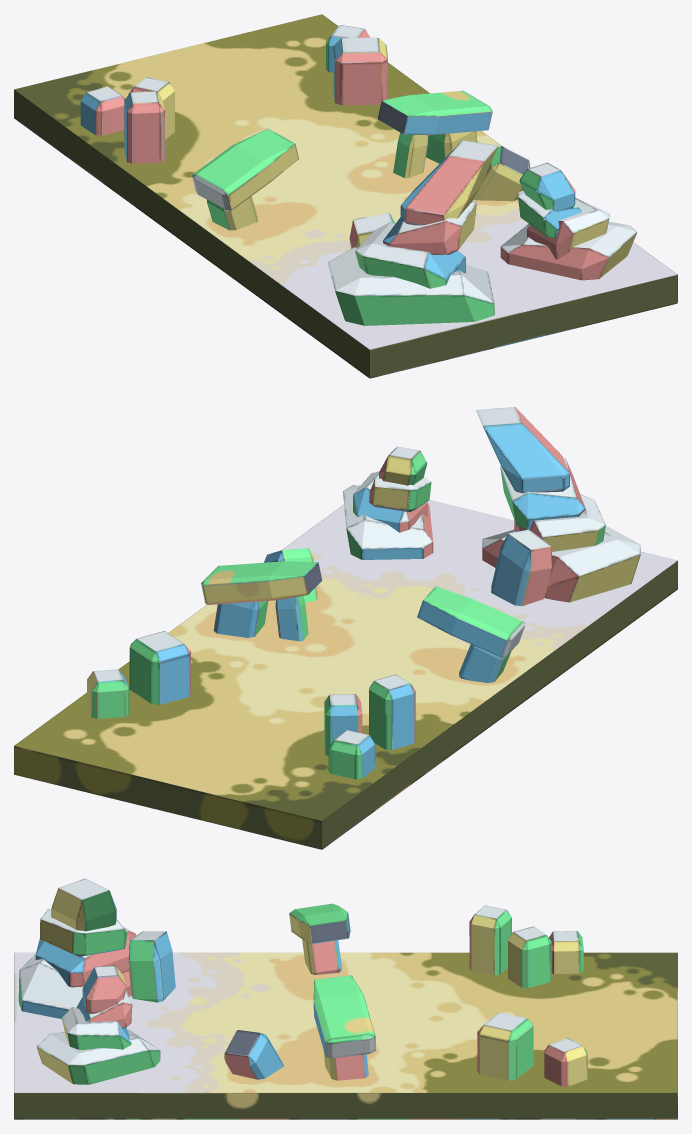
File: TABLEROPROTO.fbx
The picture shows the model from 3 angles, top to bottom: view 1: azimuth 30°, elevation 25°; view 2: azimuth 150°, elevation 25°; view 3: azimuth 270°, elevation 25°; orthographic projection. The views are drawn at different scales.
Parts seen in each view (by area): view 1: TABLERO, beveled_cuboid_11, beveled_cuboid_7, beveled_cuboid_12, beveled_cuboid_15, beveled_cuboid_9, beveled_cuboid_13, beveled_cuboid_4, beveled_cuboid_2, beveled_cuboid_14, beveled_cuboid_16, beveled_cuboid_19 (+9 smaller); view 2: TABLERO, beveled_cuboid_11, beveled_cuboid_12, beveled_cuboid_9, beveled_cuboid_7, beveled_cuboid_4, beveled_cuboid, beveled_cuboid_15, beveled_cuboid_2, beveled_cuboid_14, beveled_cuboid_13, beveled_cuboid_3 (+9 smaller); view 3: TABLERO, beveled_cuboid_9, beveled_cuboid_15, beveled_cuboid_4, beveled_cuboid, beveled_cuboid_11, beveled_cuboid_12, beveled_cuboid_2, beveled_cuboid_1, beveled_cuboid_14, beveled_cuboid_13, beveled_cuboid_19 (+8 smaller).
Part boxes in pixels (left/top/right/bottom): TABLERO: left=14, top=14, right=677, bottom=378; beveled_cuboid_11: left=328, top=247, right=494, bottom=325; beveled_cuboid_7: left=192, top=128, right=298, bottom=210; beveled_cuboid_12: left=400, top=140, right=498, bottom=225; beveled_cuboid_15: left=500, top=221, right=636, bottom=280; beveled_cuboid_9: left=378, top=90, right=492, bottom=135; beveled_cuboid_13: left=355, top=222, right=465, bottom=288; beveled_cuboid_4: left=333, top=37, right=387, bottom=105; beveled_cuboid_2: left=124, top=91, right=164, bottom=163; beveled_cuboid_14: left=383, top=201, right=476, bottom=254; beveled_cuboid_16: left=527, top=197, right=609, bottom=259; beveled_cuboid_19: left=473, top=146, right=529, bottom=201; TABLERO: left=14, top=500, right=677, bottom=849; beveled_cuboid_11: left=482, top=526, right=640, bottom=602; beveled_cuboid_12: left=476, top=407, right=569, bottom=493; beveled_cuboid_9: left=201, top=561, right=322, bottom=604; beveled_cuboid_7: left=417, top=586, right=524, bottom=657; beveled_cuboid_4: left=129, top=631, right=190, bottom=704; beveled_cuboid: left=491, top=529, right=551, bottom=606; beveled_cuboid_15: left=343, top=485, right=433, bottom=559; beveled_cuboid_2: left=369, top=674, right=415, bottom=749; beveled_cuboid_14: left=500, top=458, right=585, bottom=529; beveled_cuboid_13: left=514, top=494, right=605, bottom=551; beveled_cuboid_3: left=328, top=730, right=375, bottom=779; TABLERO: left=14, top=952, right=677, bottom=1119; beveled_cuboid_9: left=313, top=975, right=375, bottom=1058; beveled_cuboid_15: left=36, top=1029, right=160, bottom=1084; beveled_cuboid_4: left=477, top=1012, right=533, bottom=1080; beveled_cuboid: left=128, top=931, right=175, bottom=1002; beveled_cuboid_11: left=18, top=954, right=130, bottom=1018; beveled_cuboid_12: left=51, top=878, right=116, bottom=933; beveled_cuboid_2: left=469, top=905, right=511, bottom=975; beveled_cuboid_1: left=508, top=926, right=551, bottom=988; beveled_cuboid_14: left=40, top=909, right=127, bottom=956; beveled_cuboid_13: left=35, top=926, right=136, bottom=987; beveled_cuboid_19: left=224, top=1030, right=283, bottom=1079.
Size of the model in its own units: 3558 by 1801 by 7000.
Materials: 1 (1 with a texture image).
